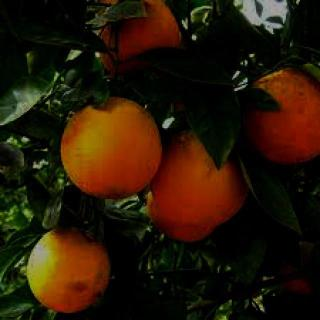orange: (146, 111, 252, 270), (42, 78, 150, 214), (232, 48, 320, 180), (88, 0, 190, 88)
